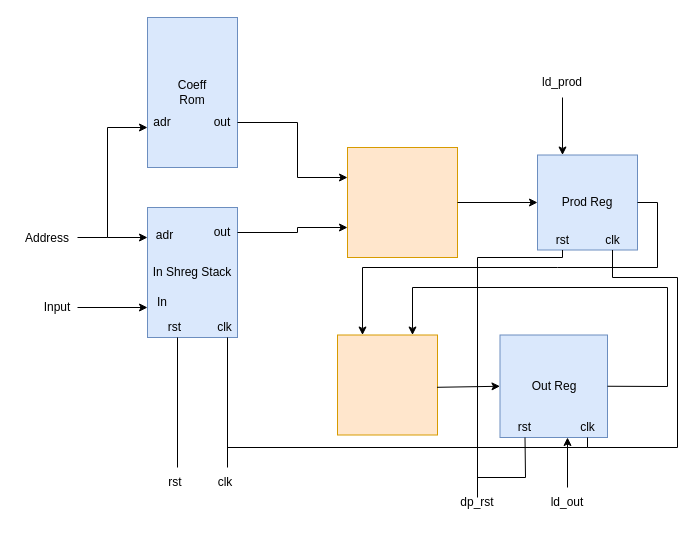
This 696x535 diagram has some shape labels left out. Each missing label, with the centre of its shape:
Adder: the point at 387,384
Multiplier: the point at 402,202
